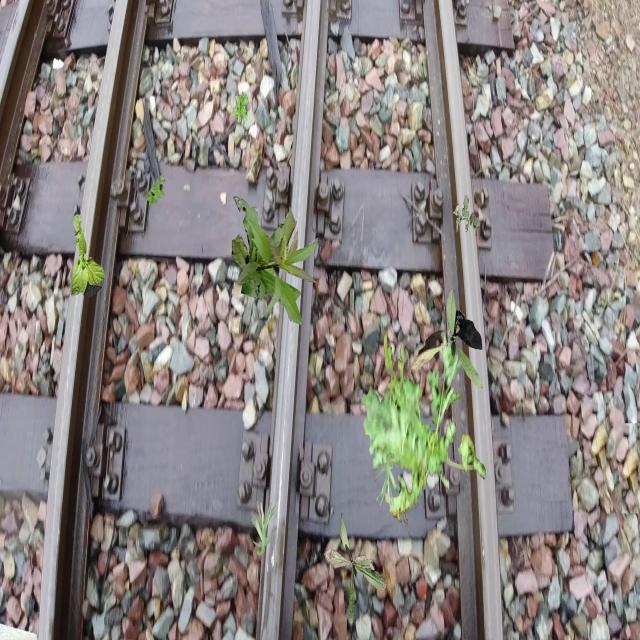Plant: (361, 329, 486, 525), (232, 196, 320, 326), (324, 512, 388, 624), (411, 289, 482, 388), (71, 214, 106, 298), (374, 452, 401, 508), (251, 500, 278, 556), (453, 195, 480, 236), (146, 175, 166, 208), (231, 92, 248, 124)
